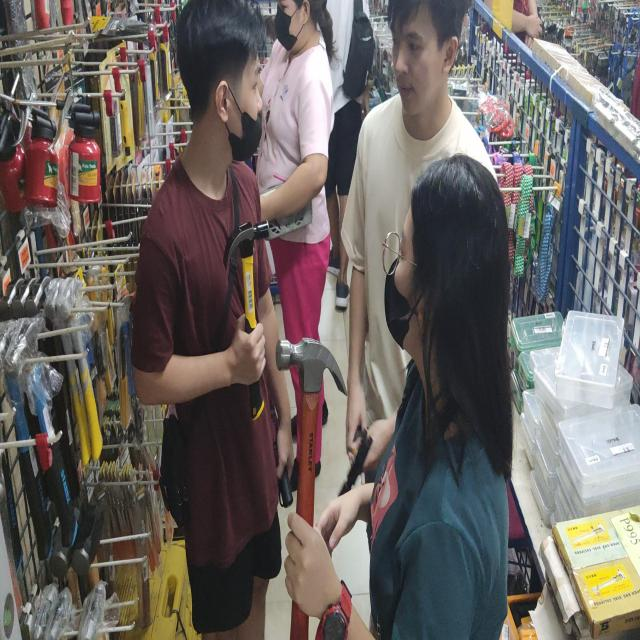hammer: (276, 336, 348, 640), (223, 219, 269, 421)
